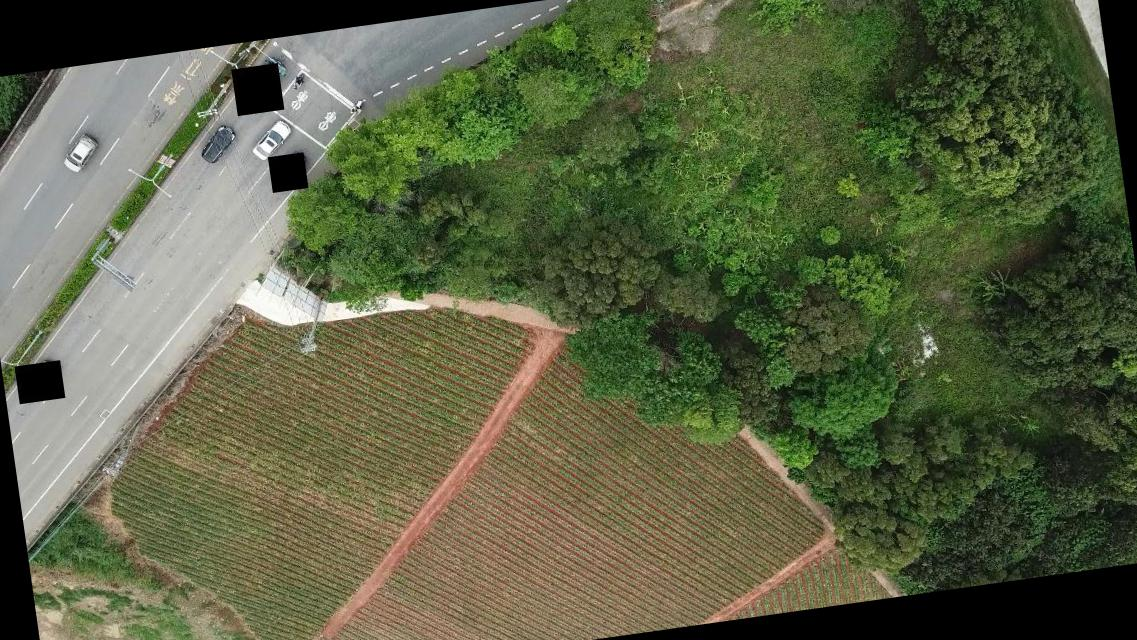vehicle: (250, 119, 296, 161), (196, 124, 239, 166), (60, 132, 100, 174)
